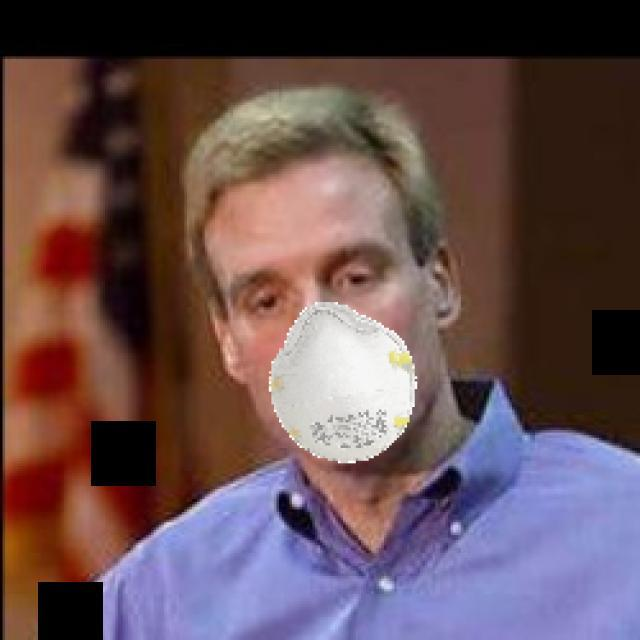n95: (207, 146, 429, 466)
